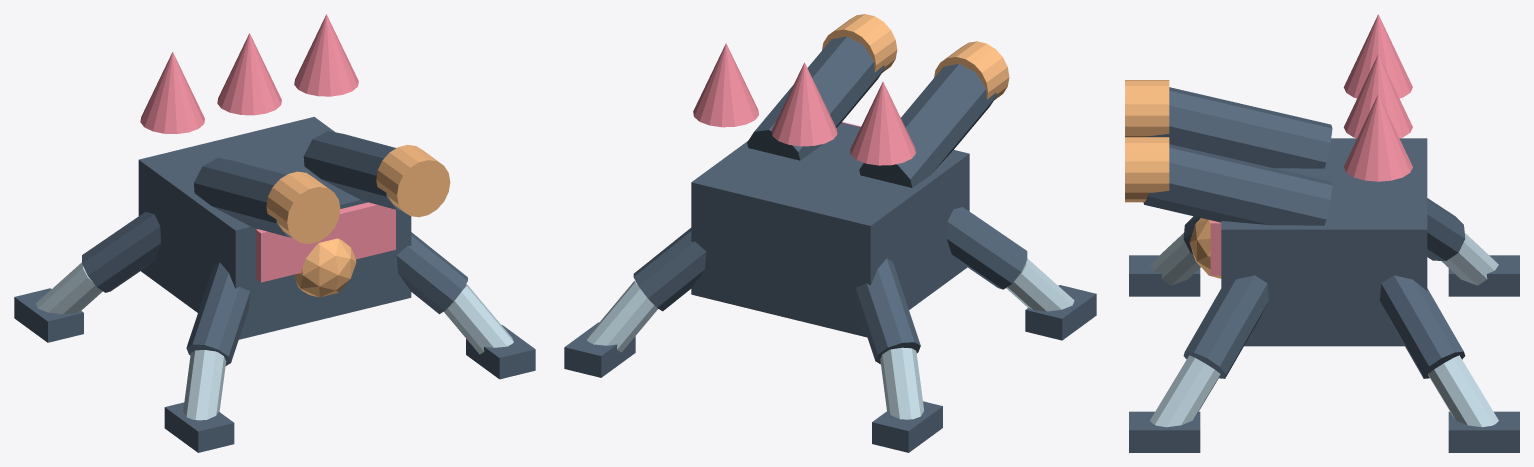
Rendered from titan_breaker.glb.
The picture shows the model from 3 angles, left to right: view 1: azimuth 30°, elevation 25°; view 2: azimuth 150°, elevation 25°; view 3: azimuth 270°, elevation 25°; orthographic projection. The views are drawn at different scales.
Visible parts, largest first — view 1: walker_body_0, armored_eye_1, artillery_mount_15, artillery_mount_16, turret_muzzle_18, turret_muzzle_17, piston_leg_3, piston_leg_6, piston_leg_12, crown_spike_21, crown_spike_20, crown_spike_19 (+7 smaller); view 2: walker_body_0, artillery_mount_15, artillery_mount_16, piston_leg_6, piston_leg_3, piston_leg_9, crown_spike_19, crown_spike_20, crown_spike_21, leg_servo_4, leg_servo_10, foot_5 (+5 smaller); view 3: walker_body_0, artillery_mount_16, artillery_mount_15, piston_leg_12, piston_leg_9, crown_spike_21, turret_muzzle_18, leg_servo_10, leg_servo_13, turret_muzzle_17, foot_11, foot_14 (+9 smaller).
Boxes of the visible parts, bbox=[...] form: walker_body_0: bbox=[138, 116, 411, 339]; armored_eye_1: bbox=[256, 202, 395, 282]; artillery_mount_15: bbox=[194, 157, 292, 237]; artillery_mount_16: bbox=[303, 131, 401, 210]; turret_muzzle_18: bbox=[376, 145, 450, 217]; turret_muzzle_17: bbox=[266, 171, 340, 243]; piston_leg_3: bbox=[82, 212, 160, 292]; piston_leg_6: bbox=[186, 262, 250, 365]; piston_leg_12: bbox=[396, 232, 467, 314]; crown_spike_21: bbox=[294, 14, 358, 96]; crown_spike_20: bbox=[217, 33, 281, 115]; crown_spike_19: bbox=[140, 52, 204, 133]; walker_body_0: bbox=[691, 122, 969, 337]; artillery_mount_15: bbox=[859, 64, 996, 187]; artillery_mount_16: bbox=[747, 36, 884, 160]; piston_leg_6: bbox=[946, 207, 1027, 289]; piston_leg_3: bbox=[855, 258, 920, 364]; piston_leg_9: bbox=[633, 228, 706, 311]; crown_spike_19: bbox=[850, 81, 915, 165]; crown_spike_20: bbox=[771, 62, 837, 146]; crown_spike_21: bbox=[693, 43, 758, 127]; leg_servo_4: bbox=[880, 347, 923, 419]; leg_servo_10: bbox=[586, 280, 657, 352]; foot_5: bbox=[872, 401, 942, 452]; walker_body_0: bbox=[1221, 138, 1427, 346]; artillery_mount_16: bbox=[1143, 144, 1332, 225]; artillery_mount_15: bbox=[1149, 87, 1332, 168]; piston_leg_12: bbox=[1183, 275, 1268, 378]; piston_leg_9: bbox=[1380, 275, 1465, 378]; crown_spike_21: bbox=[1344, 94, 1412, 181]; turret_muzzle_18: bbox=[1125, 137, 1169, 202]; leg_servo_10: bbox=[1428, 355, 1498, 427]; leg_servo_13: bbox=[1150, 355, 1220, 427]; turret_muzzle_17: bbox=[1125, 80, 1169, 136]; foot_11: bbox=[1448, 411, 1519, 452]; foot_14: bbox=[1129, 411, 1200, 452].
Size of the model in its own units: 2.71 by 2.25 by 2.58.
